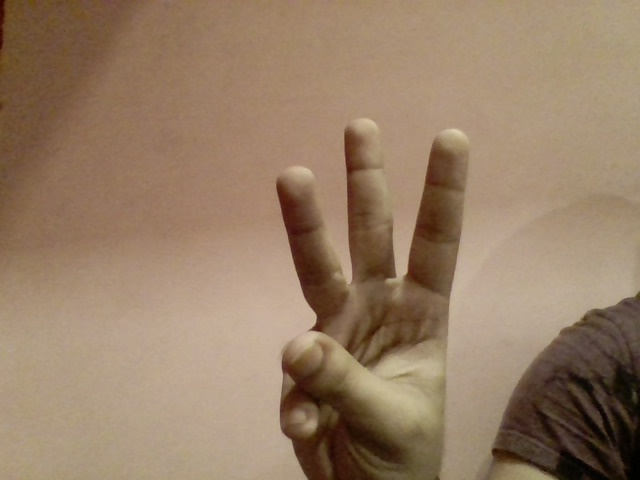w: (252, 112, 480, 480)
